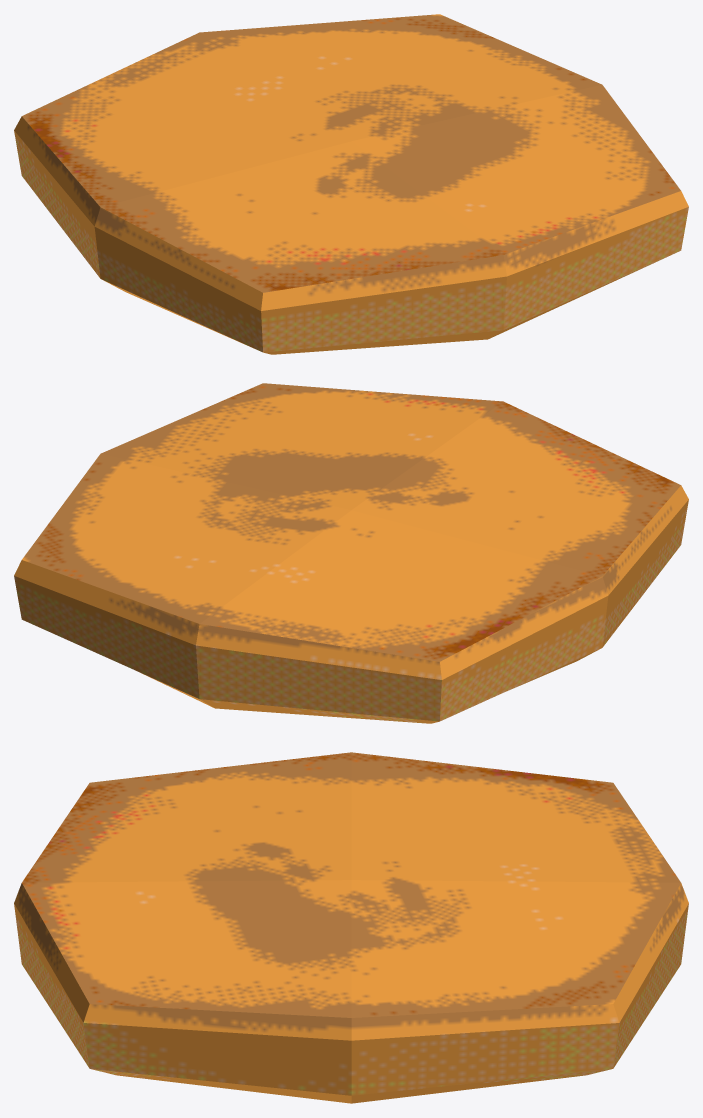
The model's file is bottombun2.fbx.
3 views of the same model, one above another, from view 1: azimuth 30°, elevation 25°; view 2: azimuth 150°, elevation 25°; view 3: azimuth 270°, elevation 25° (orthographic). The views are drawn at different scales.
Visible parts, largest first — view 1: bottombun; view 2: bottombun; view 3: bottombun.
Boxes of the visible parts, x1,y1,x2,y2 form: bottombun: (14,14,688,354); bottombun: (14,383,688,723); bottombun: (14,752,688,1103).
Size of the model in its own units: 246 by 49.36 by 258.
